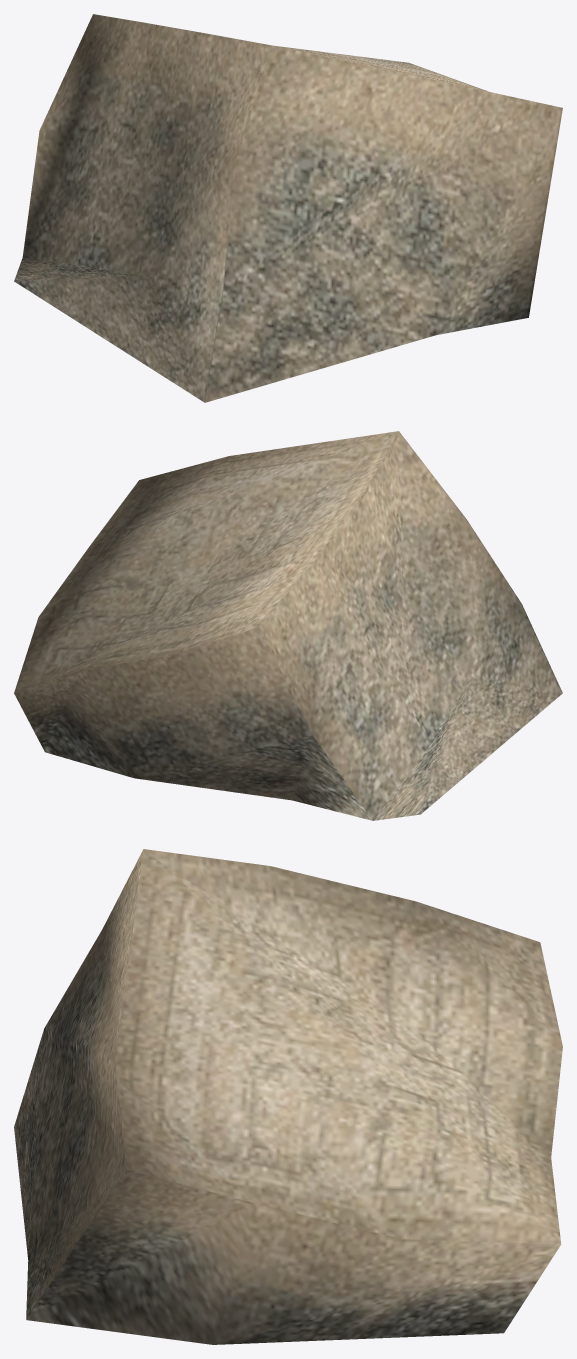
File: desert-bigstone03_lod_01.fbx
3 renders of one model, top to bottom at view 1: azimuth 30°, elevation 25°; view 2: azimuth 150°, elevation 25°; view 3: azimuth 270°, elevation 25°, orthographic. The views are drawn at different scales.
Visible parts, largest first — view 1: desert-bigstone; view 2: desert-bigstone; view 3: desert-bigstone.
Part boxes in pixels (<box>): desert-bigstone: <box>14,14,562,402</box>; desert-bigstone: <box>14,431,562,820</box>; desert-bigstone: <box>14,849,562,1344</box>.
Bounding box in the file's own units: 4.16 × 2.7 × 3.85.
